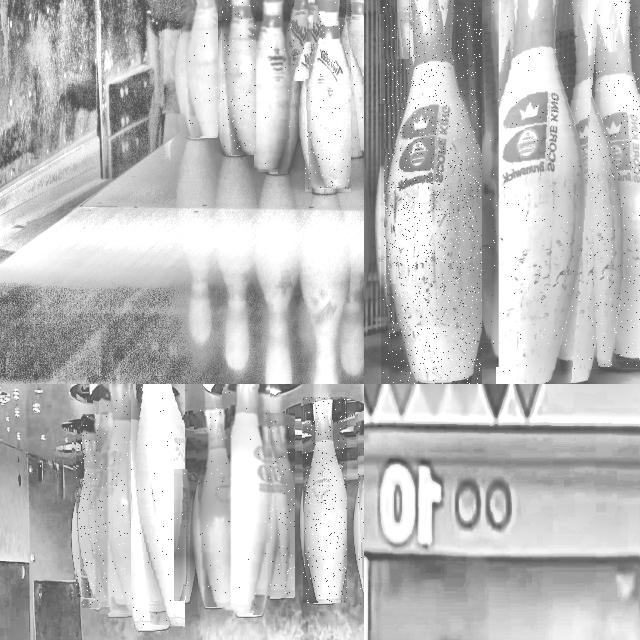bowling-pins: (383, 0, 481, 384), (499, 0, 587, 384), (584, 0, 640, 369), (131, 384, 185, 627), (489, 0, 524, 367), (223, 384, 270, 612), (303, 398, 347, 603), (305, 0, 351, 190), (254, 0, 294, 171), (101, 384, 130, 612), (198, 407, 230, 607), (222, 0, 256, 154), (269, 414, 294, 595), (184, 0, 217, 136), (83, 415, 105, 606), (76, 435, 94, 599), (175, 470, 190, 600), (291, 0, 309, 79), (397, 0, 406, 59)
